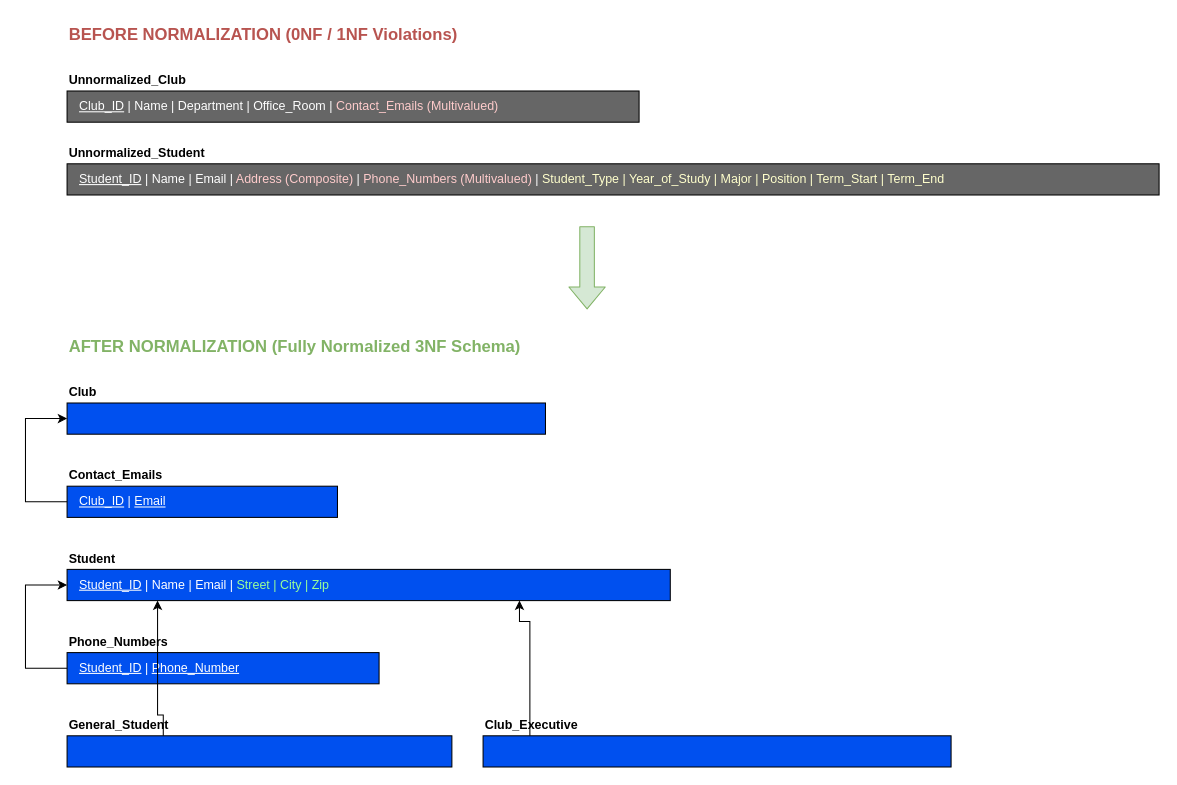
The diagram is 1177 pixels wide and 785 high, and some of its shapes have lost their labels. Each missing label, with the centre of its shape:
"Club_ID | Name | Department | Office_Room" belongs at (x=305, y=418).
"Student_ID | Position | Term_Start | Term_End" belongs at (x=716, y=751).
"Student_ID | Year_of_Study | Major" belongs at (x=259, y=751).
